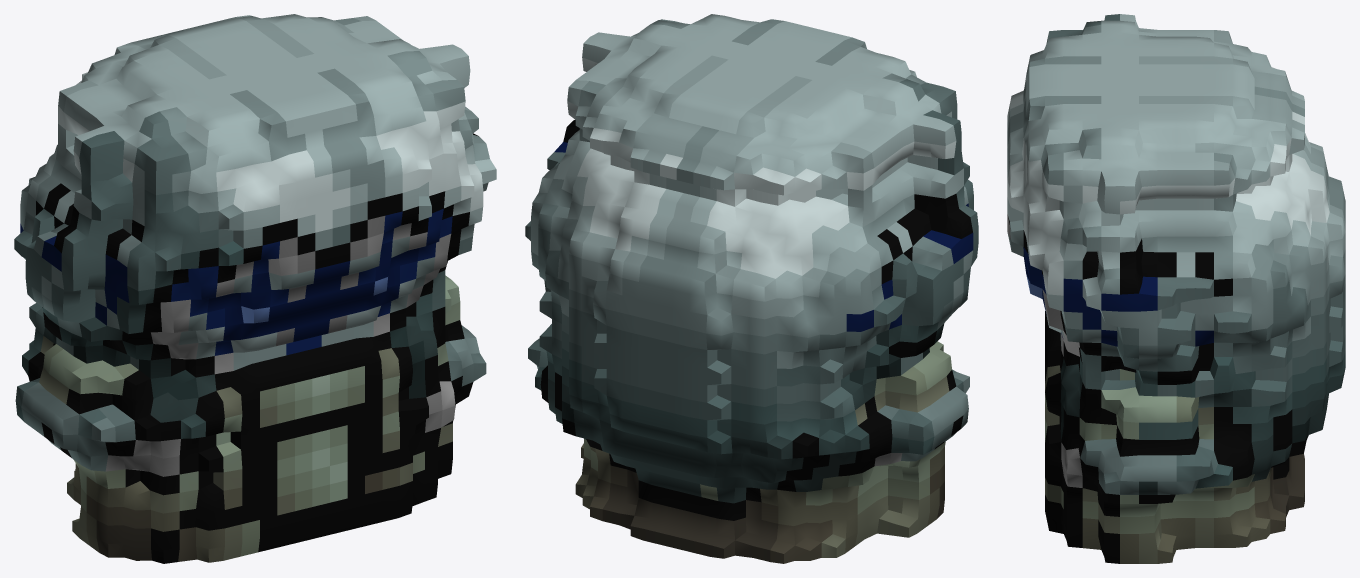
Rendered from Icon_755_03.obj.
3 views of the same model, side by side, from view 1: azimuth 30°, elevation 25°; view 2: azimuth 150°, elevation 25°; view 3: azimuth 270°, elevation 25° (orthographic). The views are drawn at different scales.
Size of the model in its own units: 2.4 by 2.4 by 1.8.
Materials: 1 (1 with a texture image).
